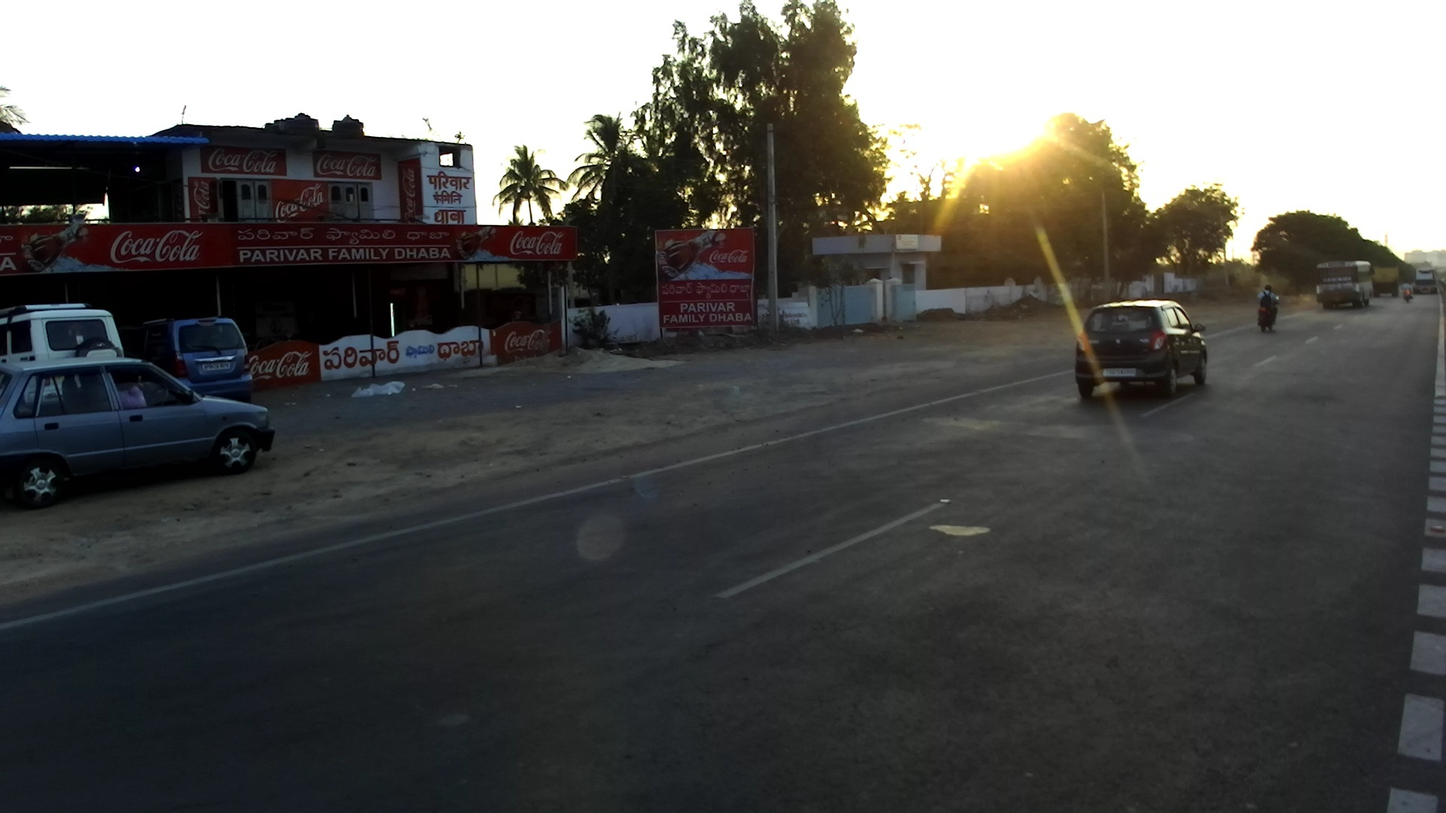bus: (1314, 260, 1374, 312)
car: (1, 349, 277, 508), (1074, 300, 1208, 400), (122, 315, 257, 403), (1, 300, 127, 393)
motorcycle: (1255, 294, 1283, 333), (1401, 285, 1413, 303)
rider: (1257, 282, 1280, 330), (1402, 279, 1414, 299)
truck: (1371, 259, 1402, 300)
vehicle fallback: (1411, 268, 1438, 297)
